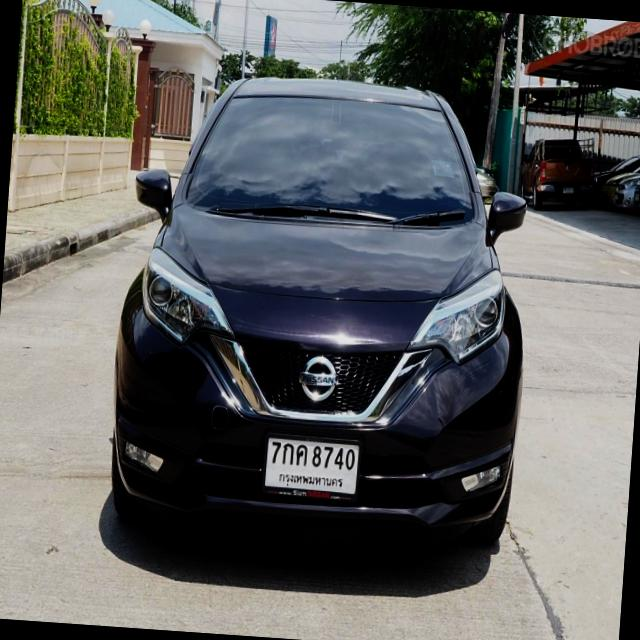license_plate: (260, 430, 362, 506)
